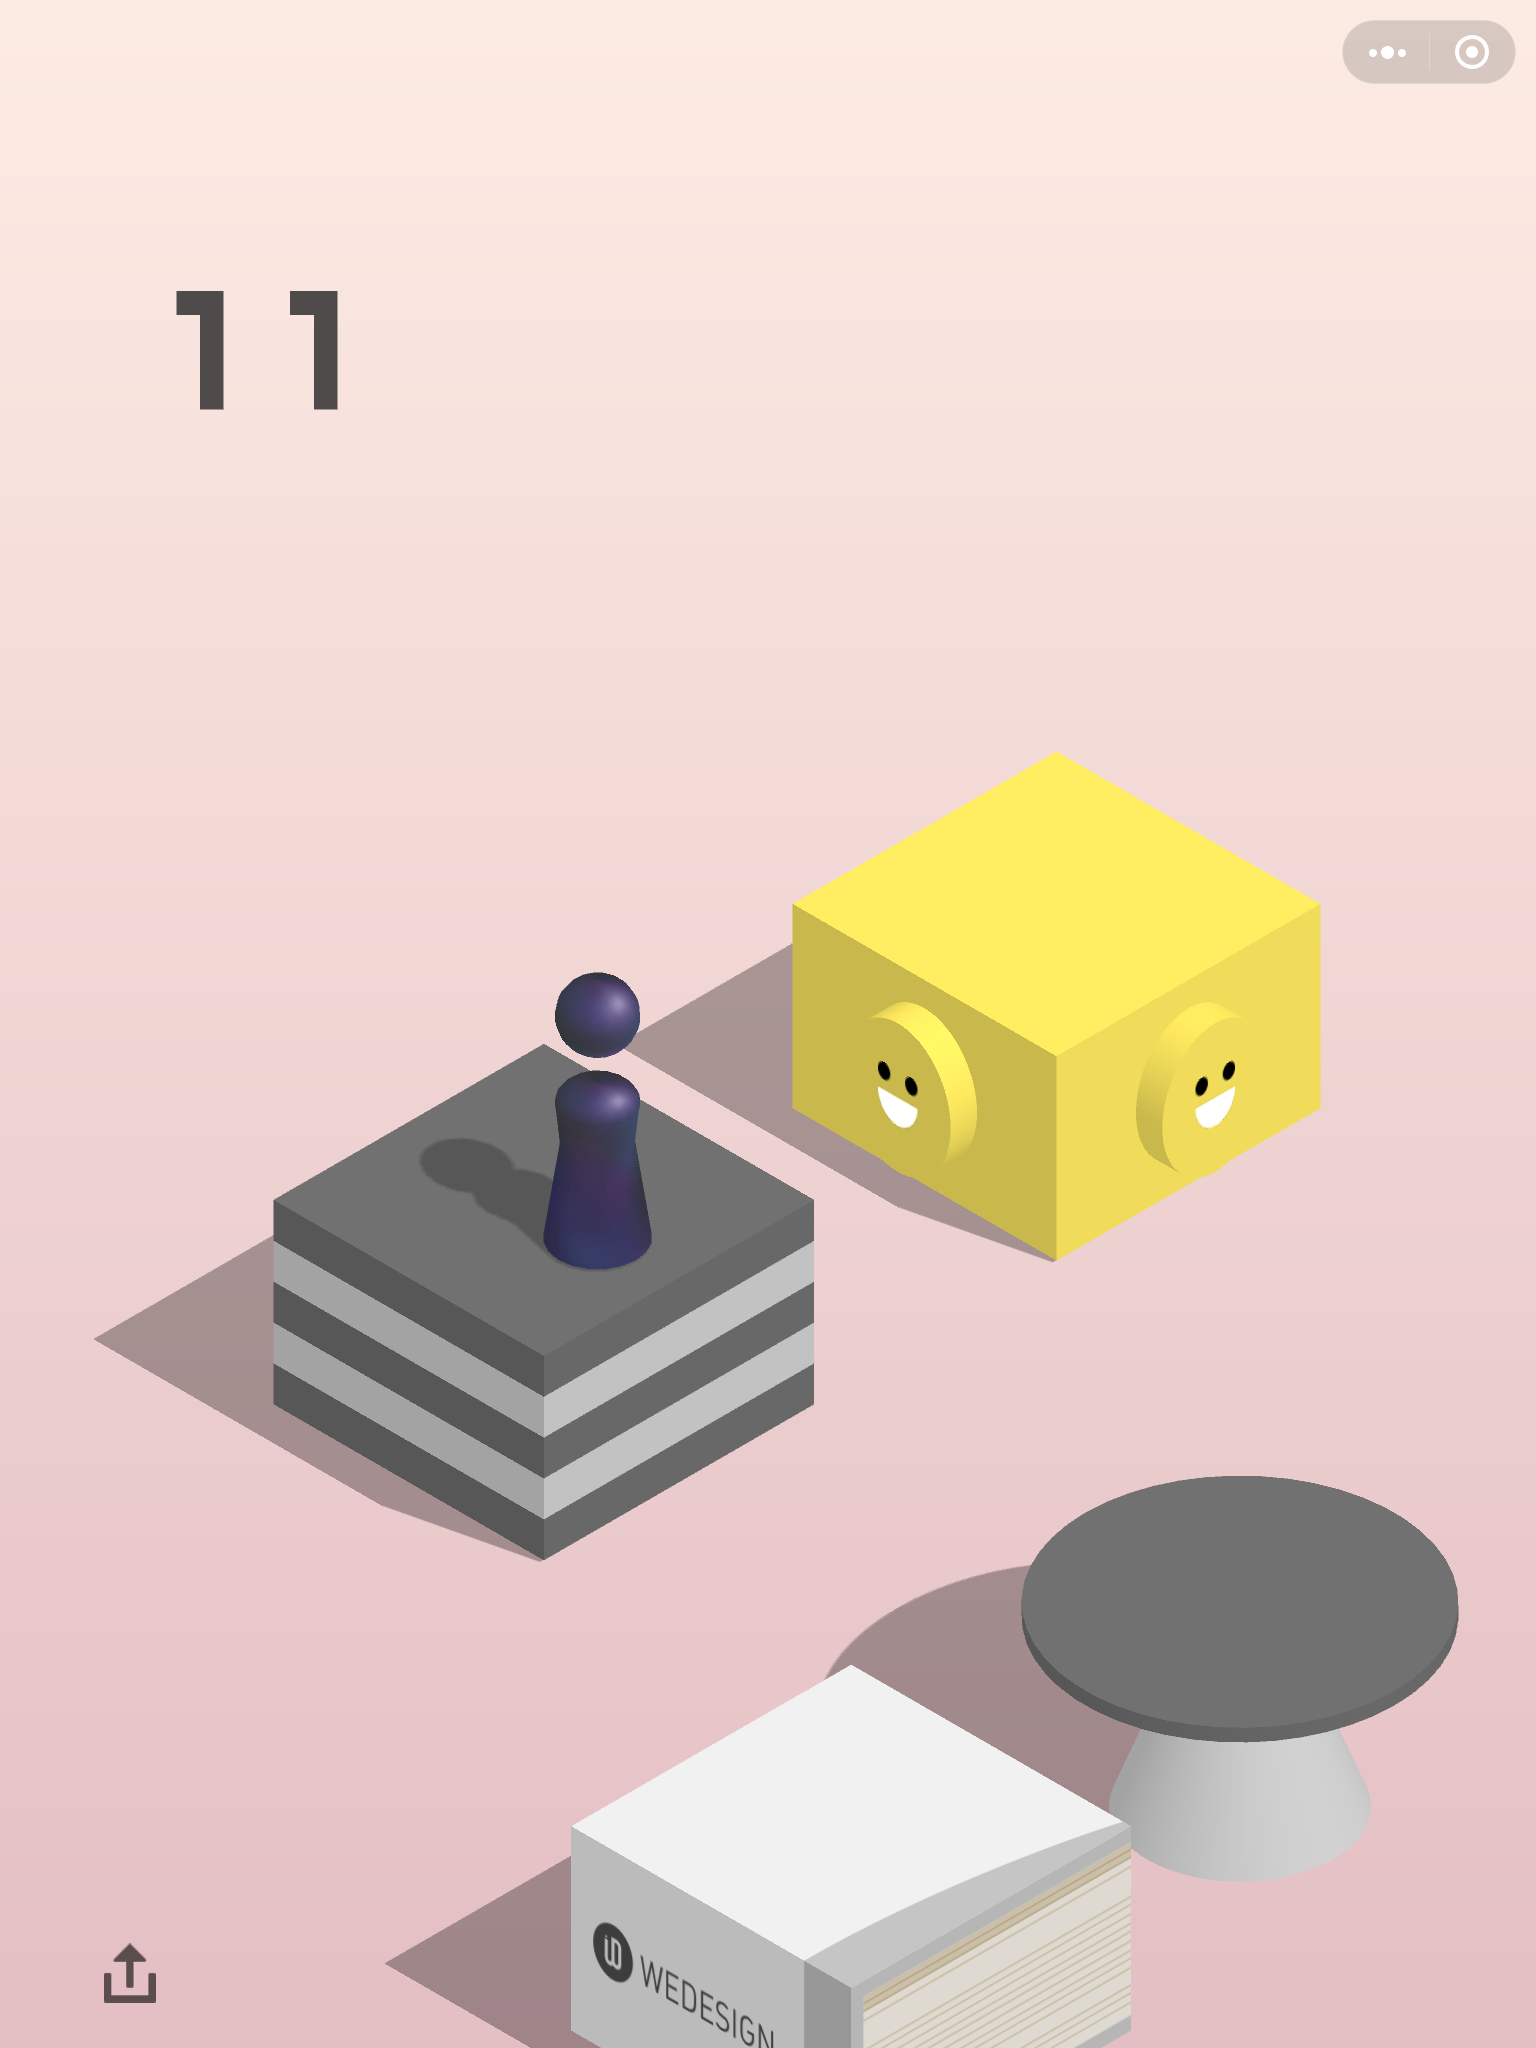c: (1016, 1467, 1465, 1887)
f: (265, 1042, 824, 1563), (783, 743, 1333, 1271), (565, 1659, 1141, 2048)
r: (537, 966, 658, 1277)
